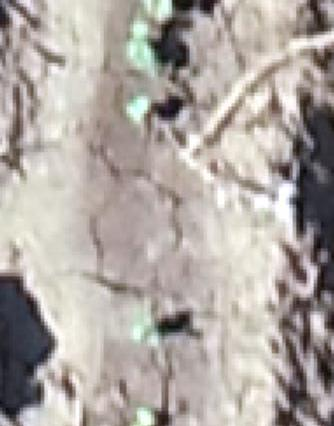cotton: (128, 41, 158, 72), (126, 94, 148, 120), (143, 1, 170, 19), (130, 19, 151, 41), (136, 326, 159, 344), (139, 407, 157, 426)
